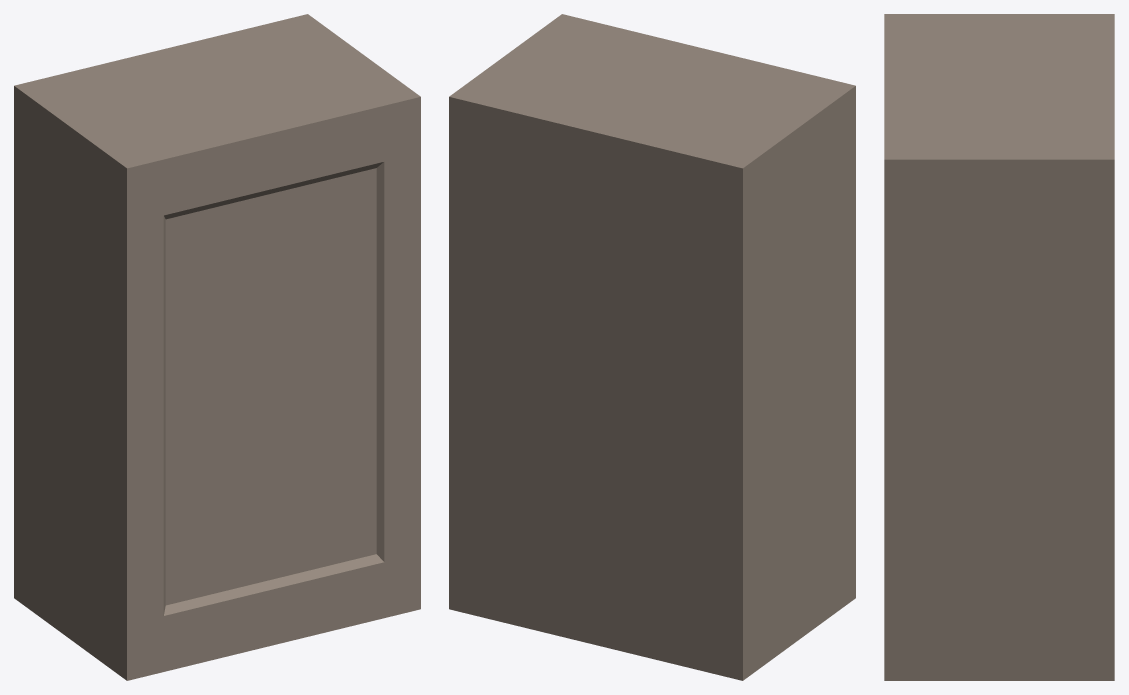
The model's file is Wall-Cabinet-Single-Door-with-Shelves_std_001_W18in.glb.
The picture shows the model from 3 angles, left to right: view 1: azimuth 30°, elevation 25°; view 2: azimuth 150°, elevation 25°; view 3: azimuth 270°, elevation 25°; orthographic projection.
Parts seen in each view (by area): view 1: Wall-Cabinet-Single-Door-with-Shelves.std.001_W18in; view 2: Wall-Cabinet-Single-Door-with-Shelves.std.001_W18in; view 3: Wall-Cabinet-Single-Door-with-Shelves.std.001_W18in.
Boxes of the visible parts, x1,y1,x2,y2 form: Wall-Cabinet-Single-Door-with-Shelves.std.001_W18in: (14, 14, 420, 680); Wall-Cabinet-Single-Door-with-Shelves.std.001_W18in: (449, 14, 855, 680); Wall-Cabinet-Single-Door-with-Shelves.std.001_W18in: (884, 14, 1114, 680).
Bounding box in the file's own units: 0.4572 × 0.762 × 0.3048.
